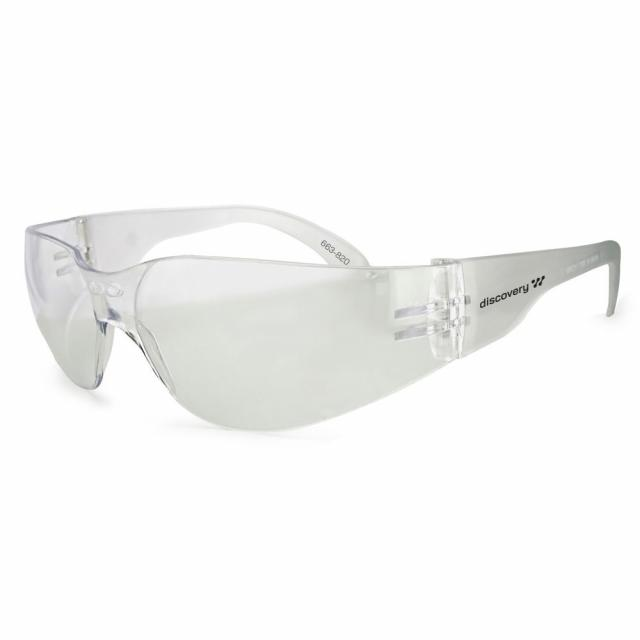Protective Glasses: (3, 82, 640, 506)
